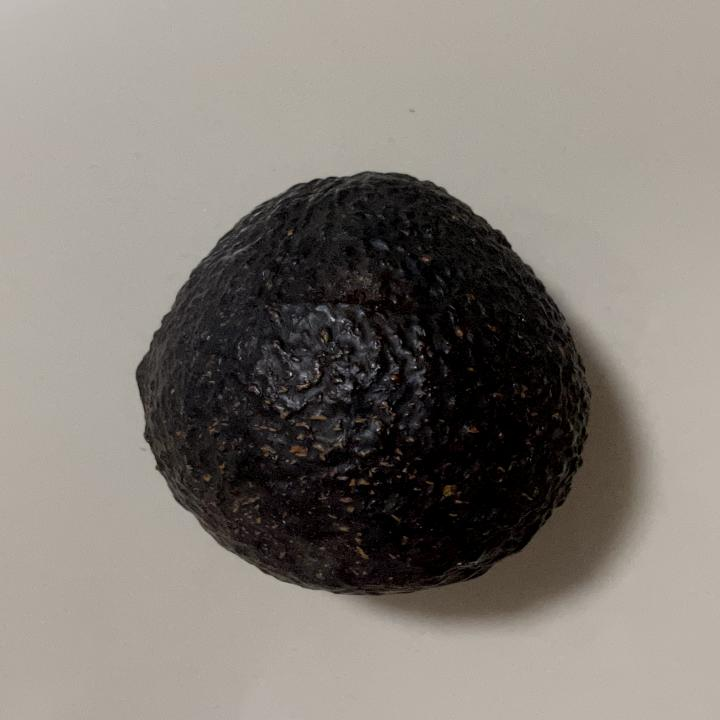Level3: (119, 160, 598, 604)
